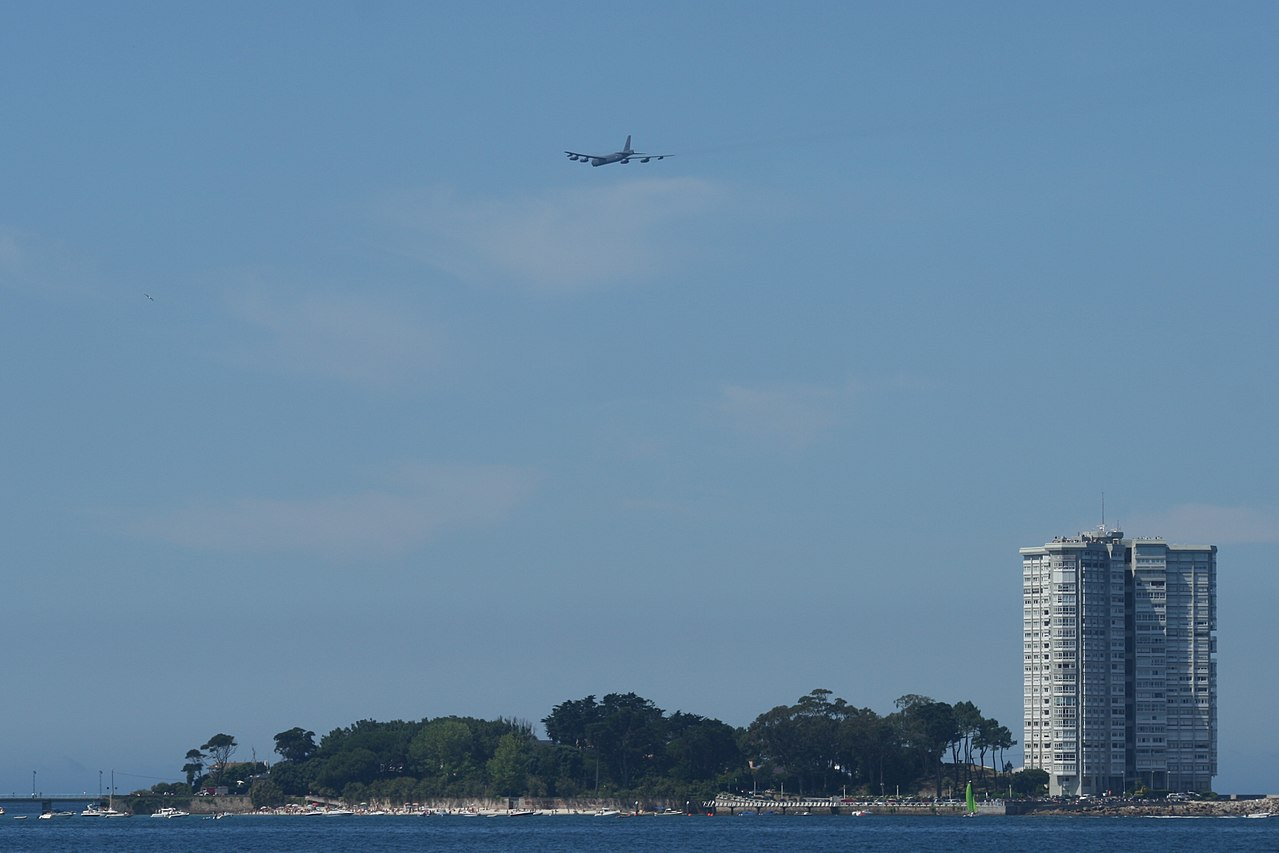B52: (563, 134, 675, 168)
